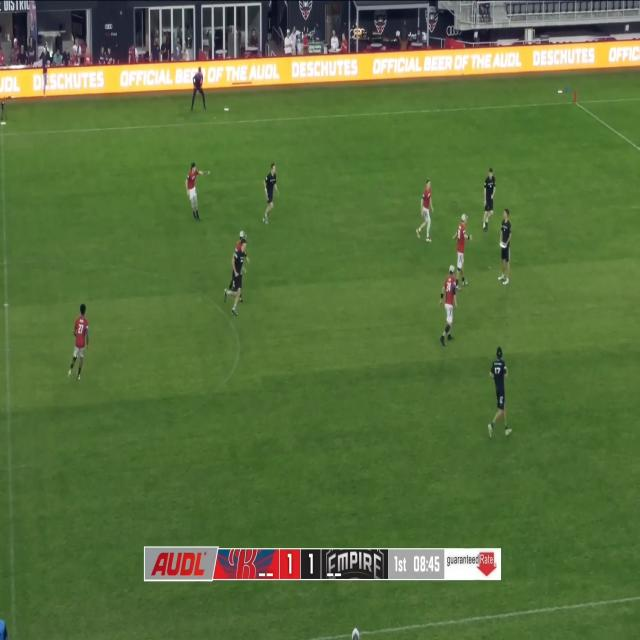Disc: (500, 242, 506, 248), (0, 122, 6, 125), (224, 108, 229, 111), (558, 90, 562, 93)
Player: (487, 347, 512, 438), (224, 238, 247, 317), (452, 214, 474, 292), (68, 304, 90, 382), (228, 230, 250, 304), (439, 264, 458, 346), (186, 164, 212, 222), (416, 179, 434, 243), (498, 209, 512, 285), (263, 163, 279, 226), (483, 167, 497, 232)
